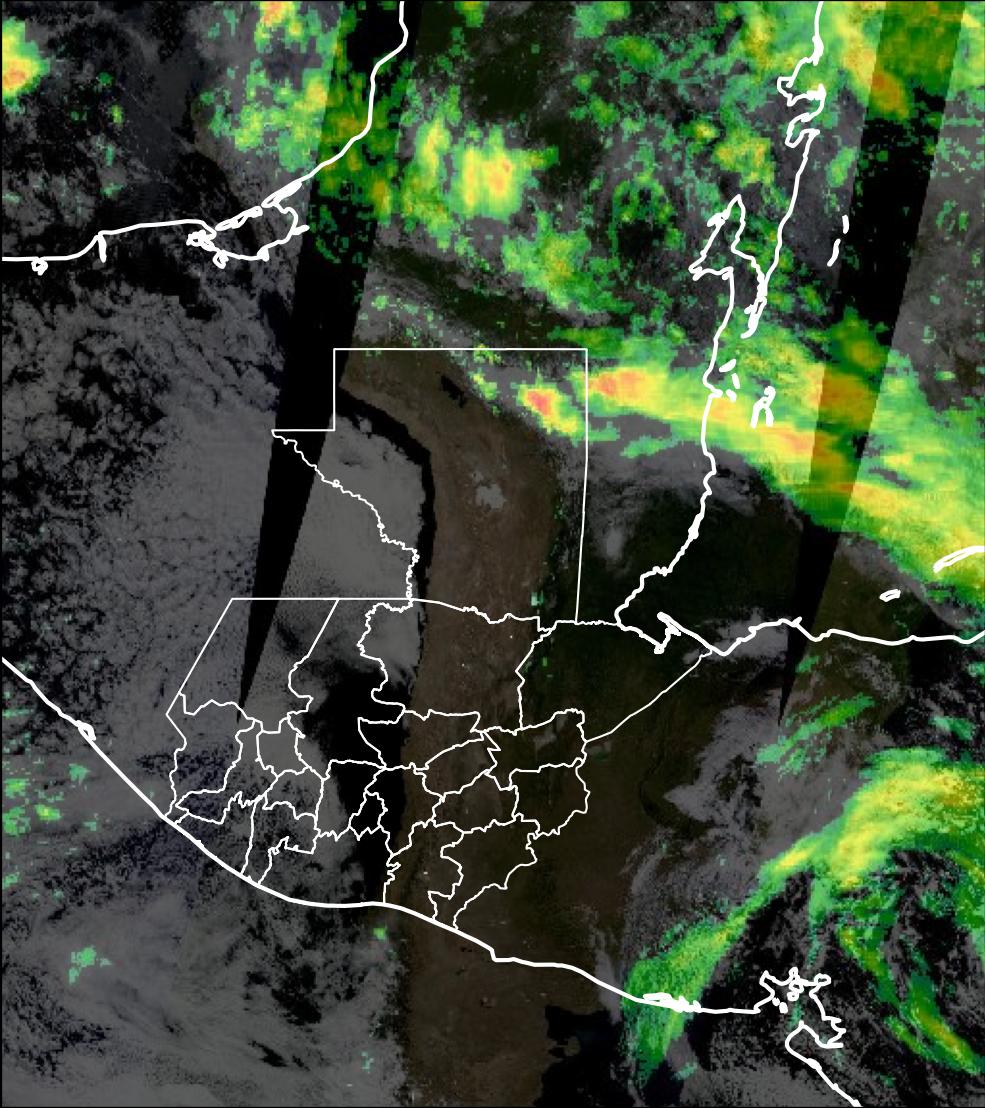precipitacion: (512, 376, 582, 442)
